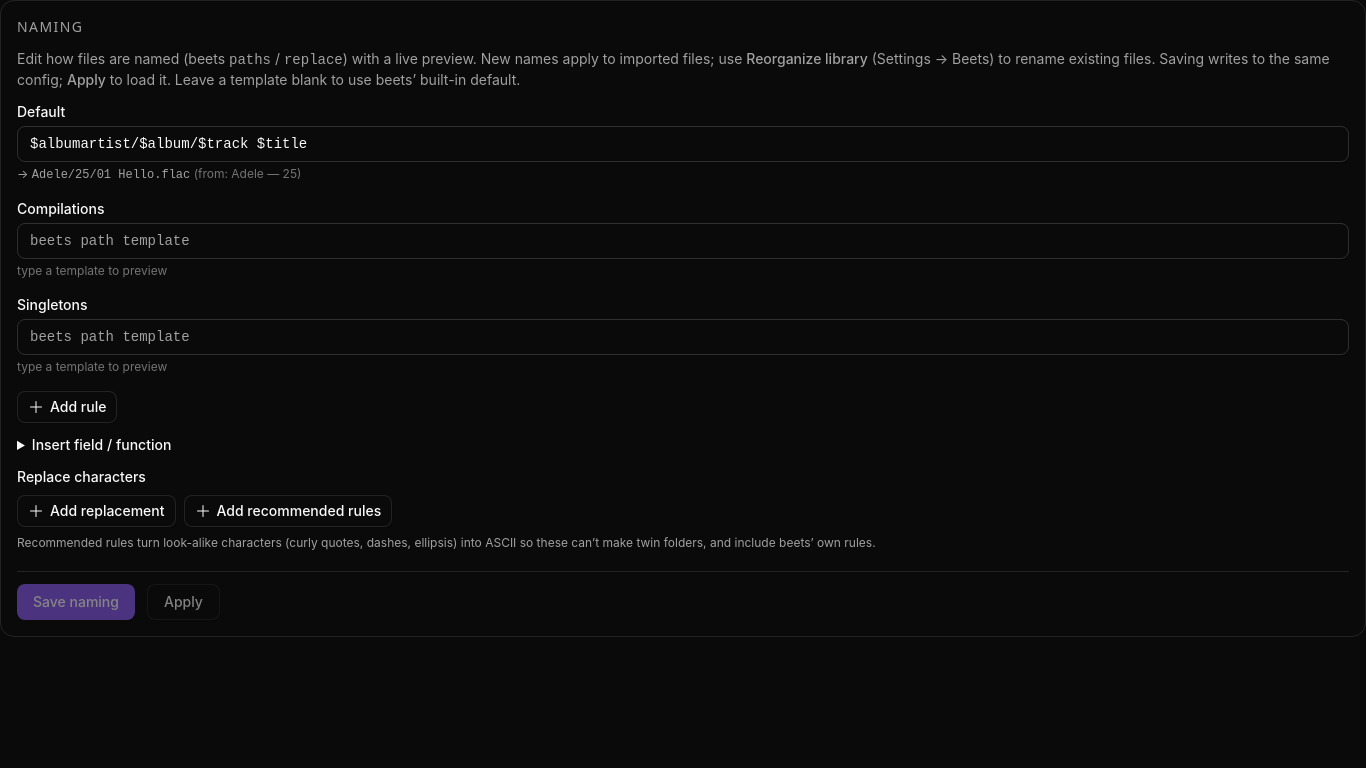
Test: Save is disabled until the config actually changes
This screenshot has width=1366, height=768.
expect the button "Save naming" is disabled: met, box [17,584,135,620]
Type "X" into the field showing "$albumartist" at point(683, 144), box [17,126,1349,162]
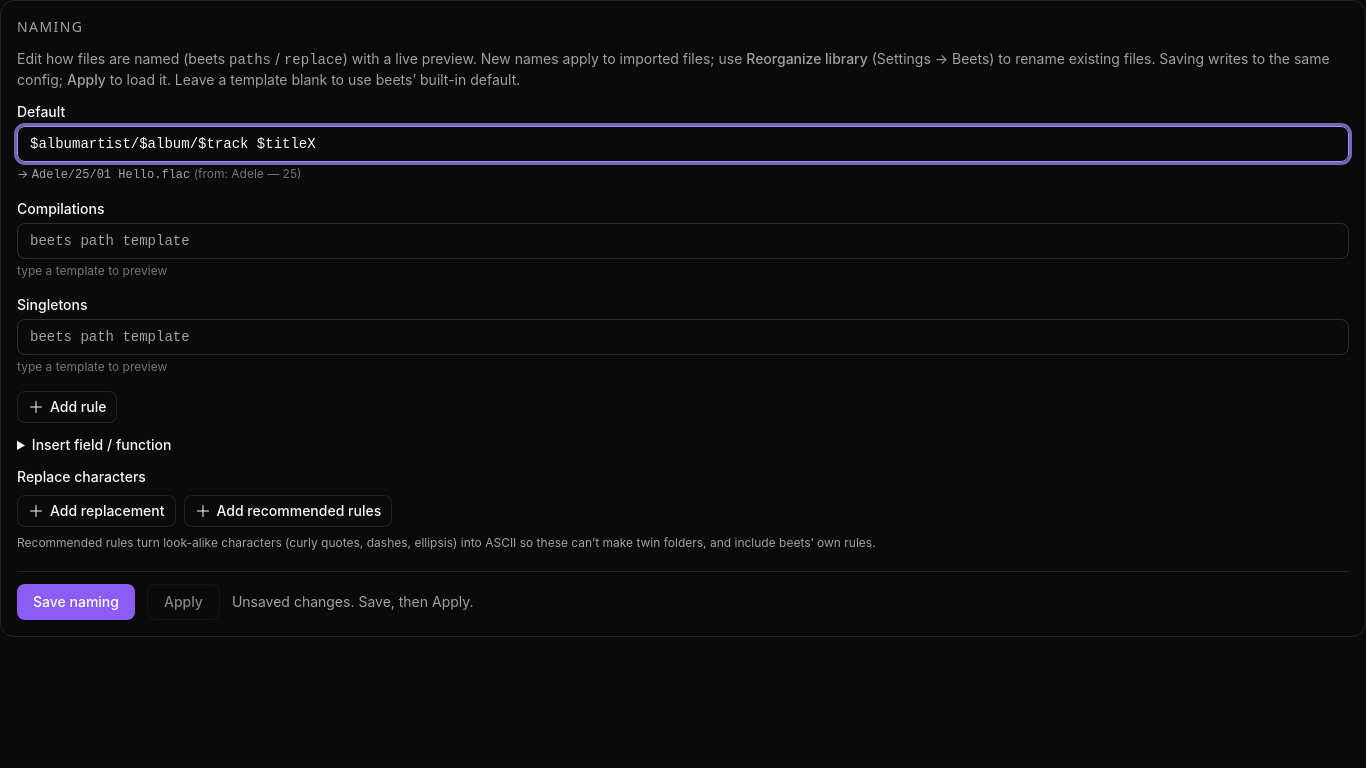
expect the button "Save naming" is enabled: met, box [17,584,135,620]
